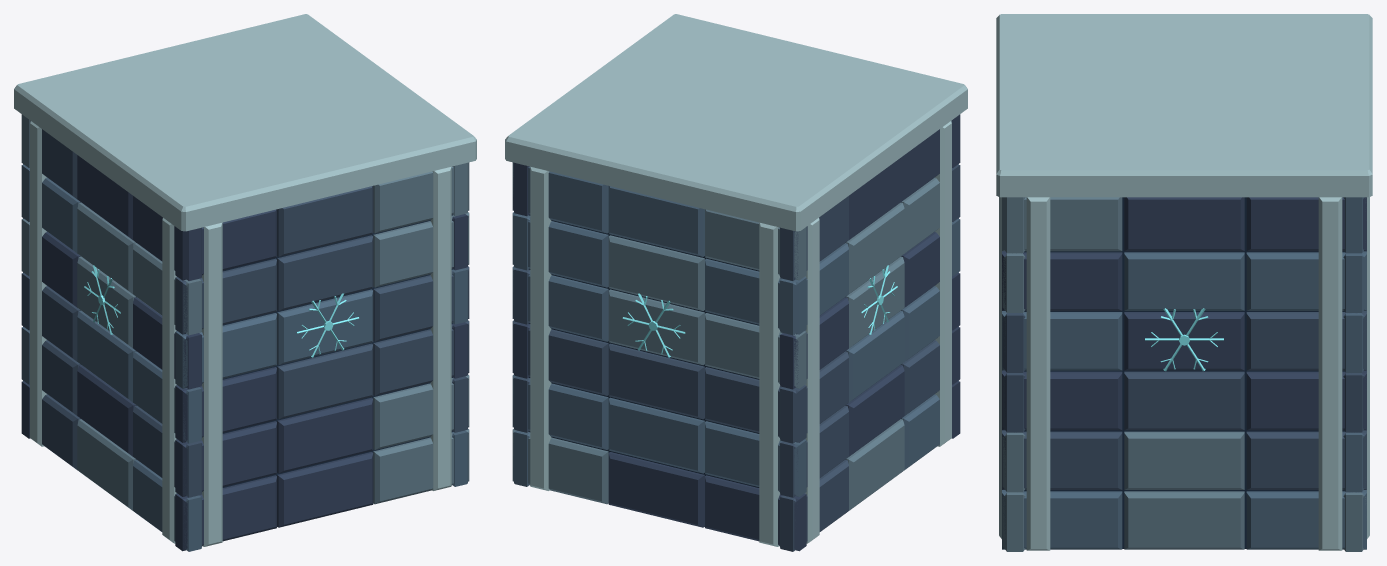
File: wall_a.fbx
3 views of the same model, side by side, from view 1: azimuth 30°, elevation 25°; view 2: azimuth 150°, elevation 25°; view 3: azimuth 270°, elevation 25° (orthographic). The views are drawn at different scales.
Parts seen in each view (by area): view 1: wall_a; view 2: wall_a; view 3: wall_a.
Boxes of the visible parts, left/top/right/bottom form: wall_a: left=14, top=14, right=476, bottom=551; wall_a: left=505, top=14, right=967, bottom=551; wall_a: left=996, top=14, right=1372, bottom=551.
Bounding box in the file's own units: 4 × 4.5 × 4.
